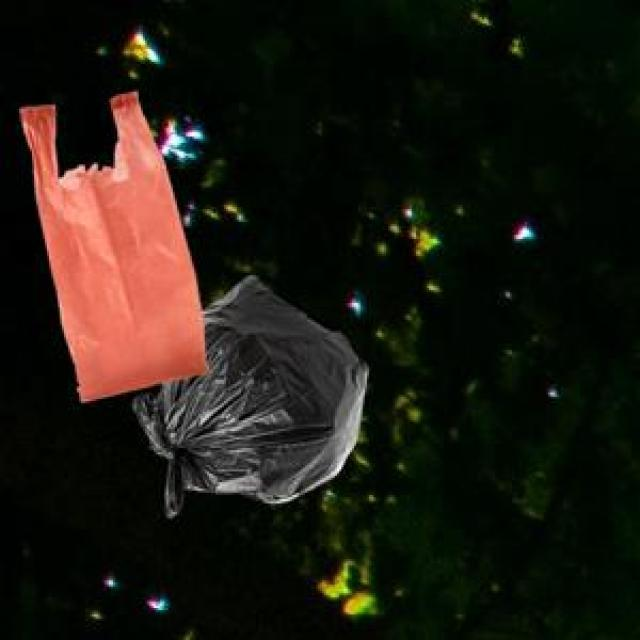miscellaneous trash: (128, 271, 363, 514)
